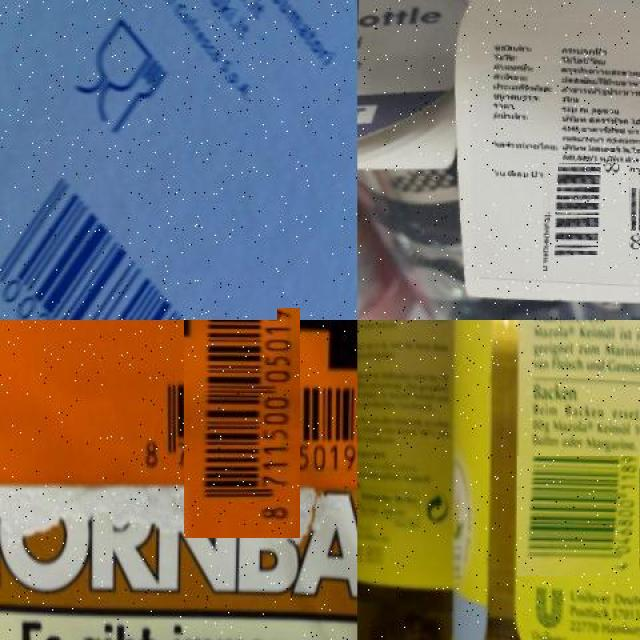Barcode: (0, 150, 277, 320), (155, 336, 329, 509), (518, 454, 640, 578), (537, 168, 635, 265)
